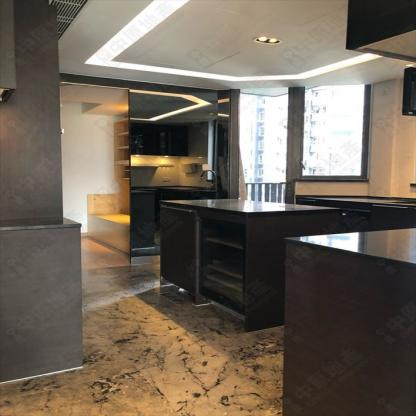Cupboard: (159, 198, 338, 332)
Faucet: (196, 169, 217, 196)
Oven: (333, 207, 372, 233)
